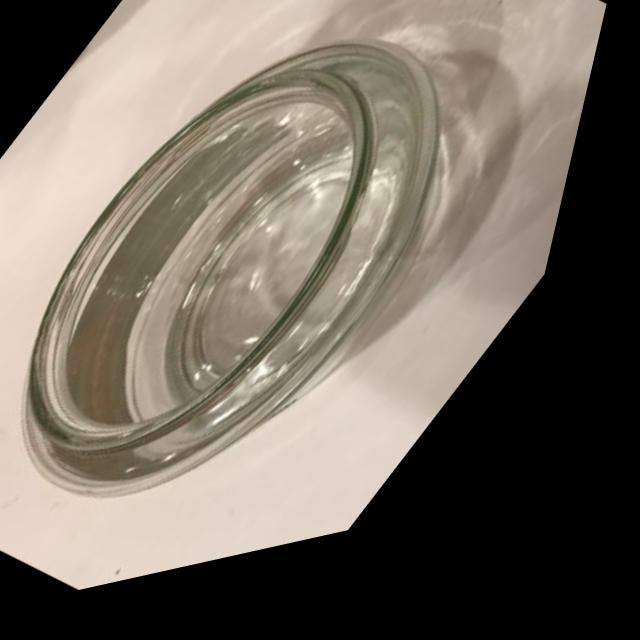glass: (0, 0, 625, 640)
